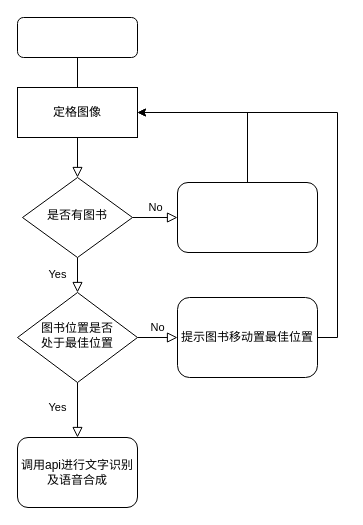
Image size: 363x525. Some labels were removed from this diagram. The box of each missing label's shape, as (x1, y1, x2, y2) in pixels:
提示当前视野内无图书: (176, 182, 318, 252)
系统启动: (16, 16, 138, 58)
